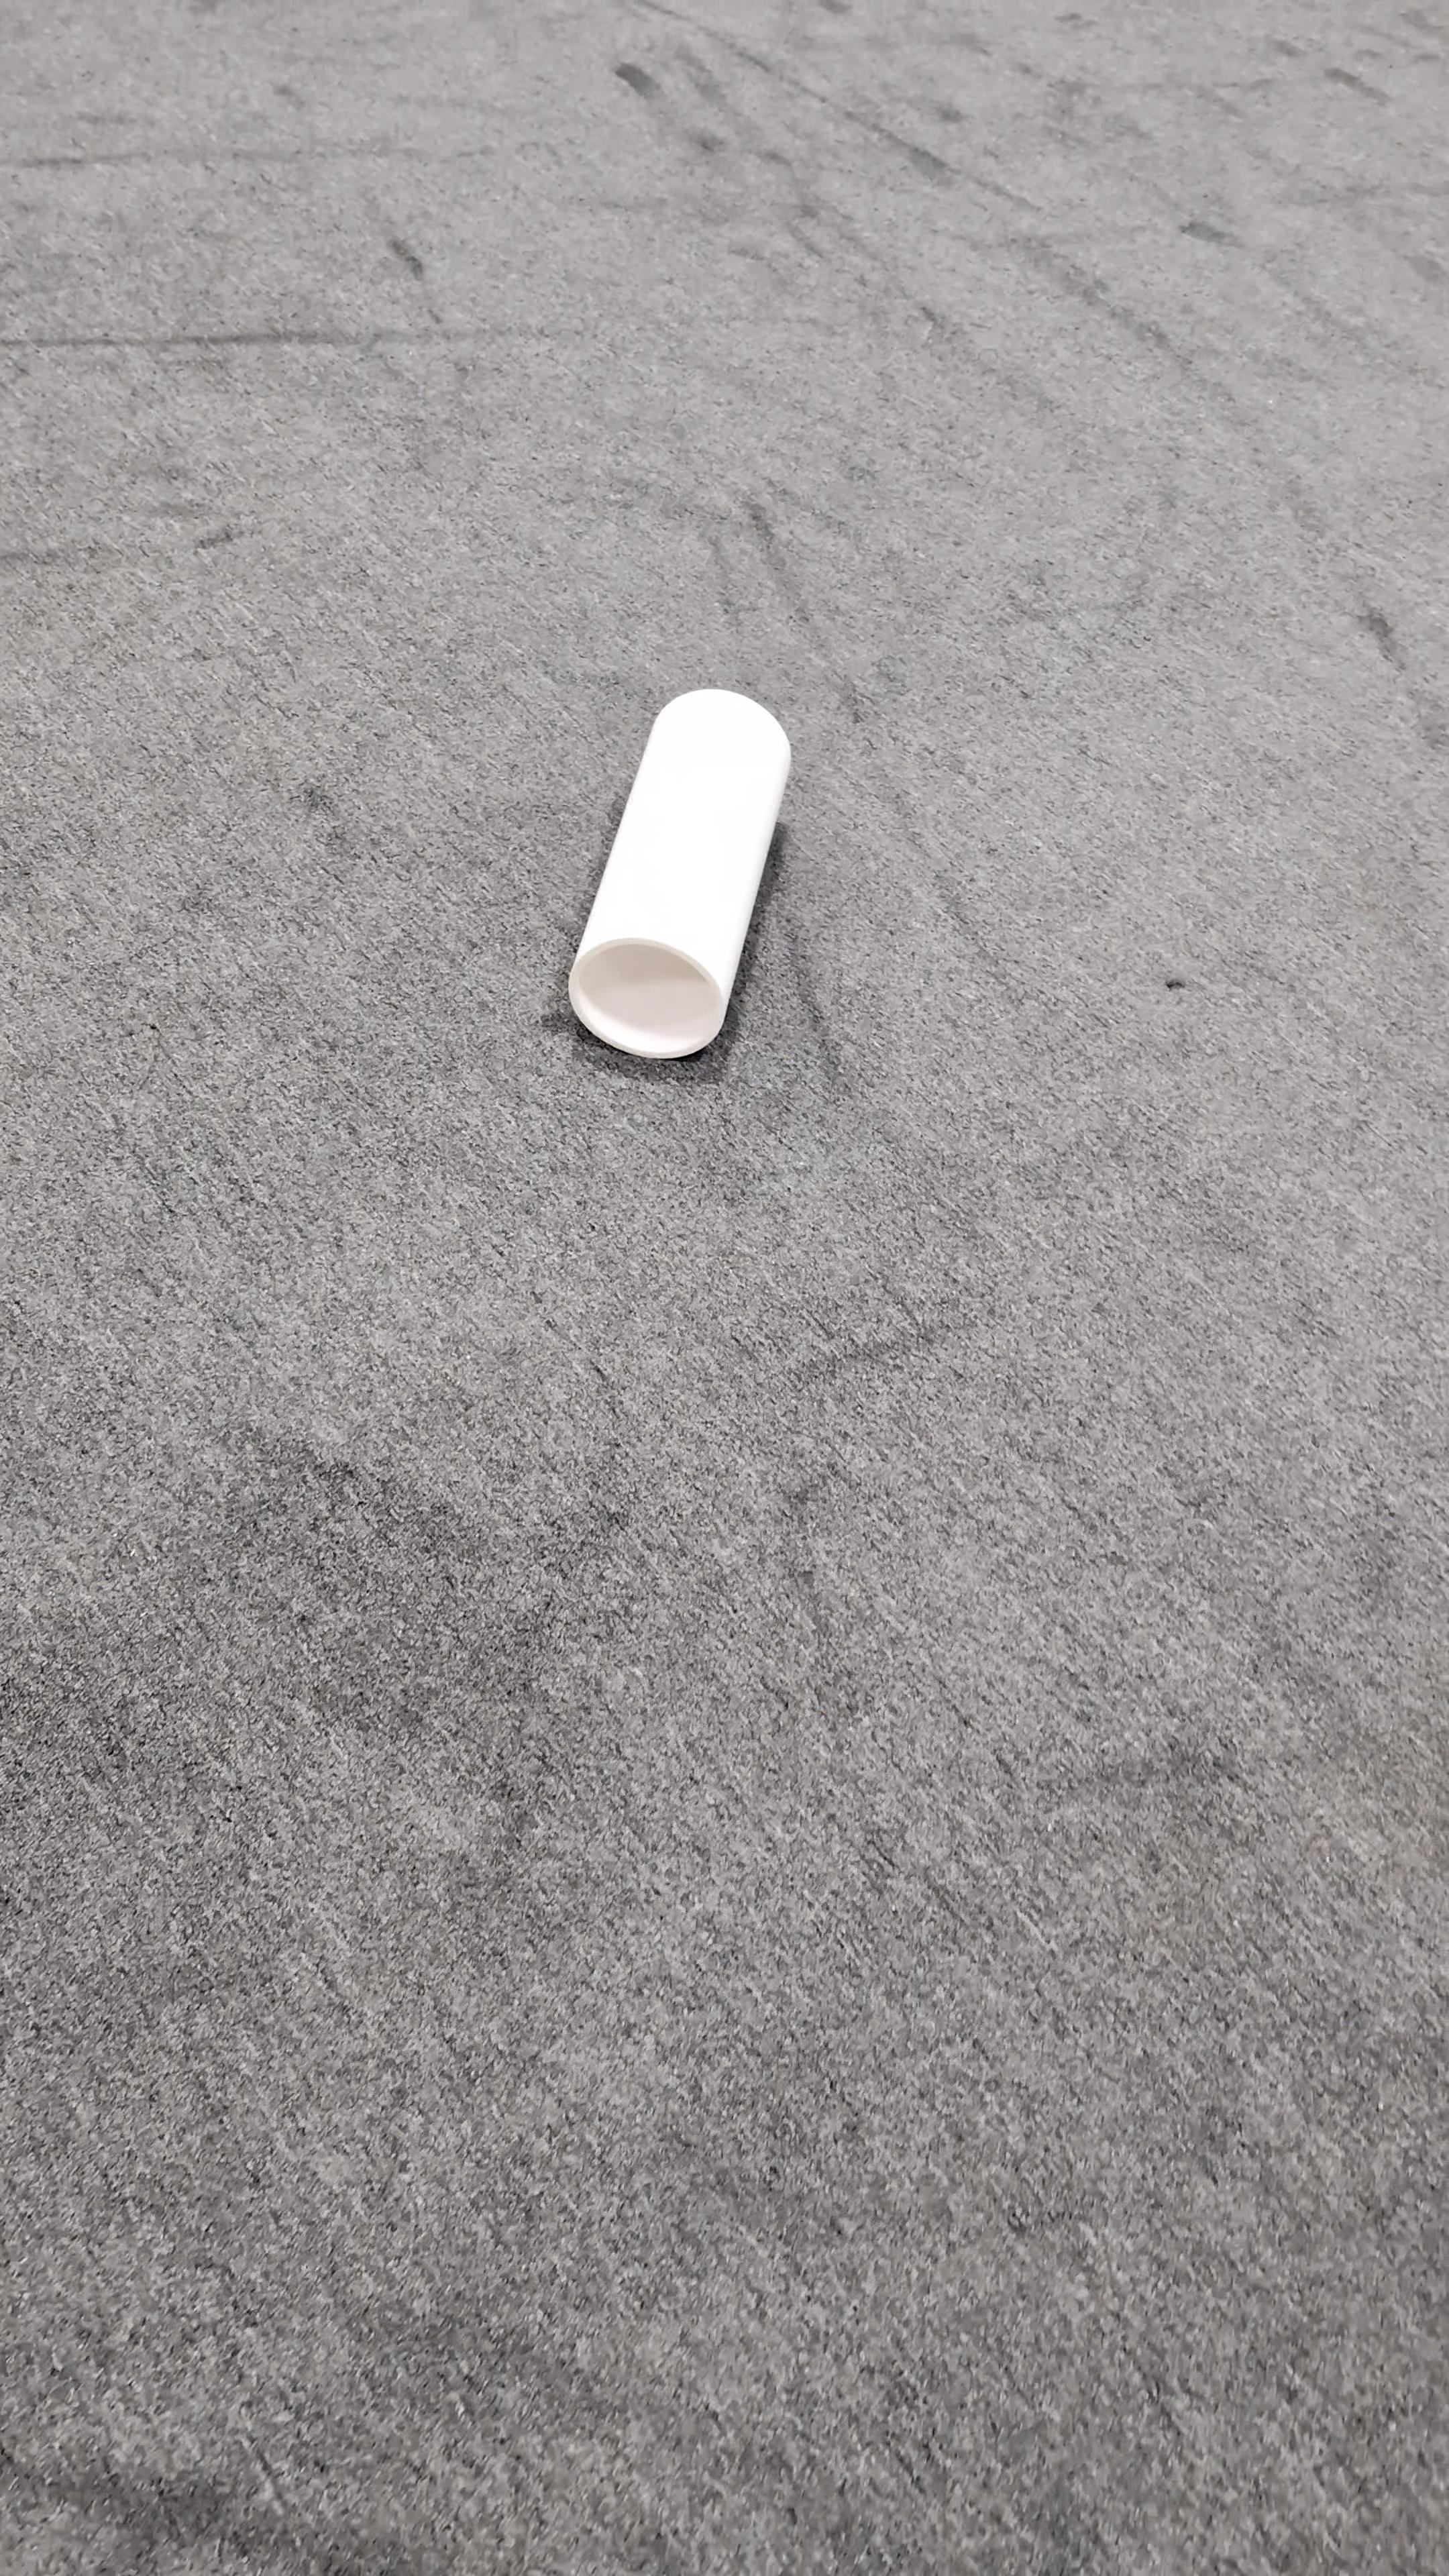coral: (563, 685, 794, 1058)
